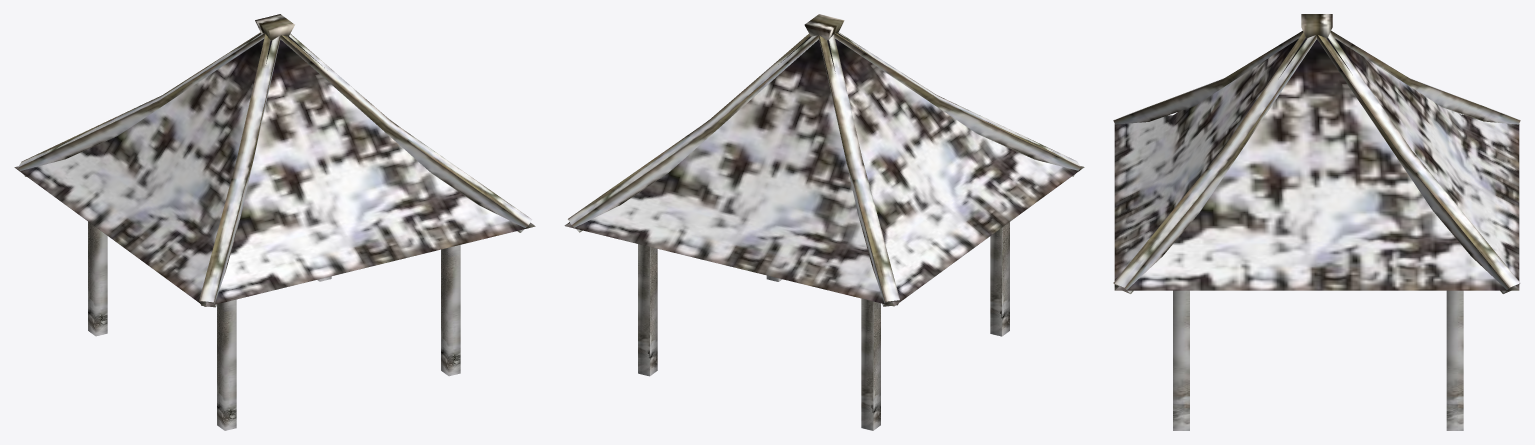
Rendered from Loft18.obj.
3 renders of one model, left to right at view 1: azimuth 30°, elevation 25°; view 2: azimuth 150°, elevation 25°; view 3: azimuth 270°, elevation 25°, orthographic. The views are drawn at different scales.
Visible parts, largest first — view 1: Loft18; view 2: Loft18; view 3: Loft18.
Part boxes in pixels (left/top/right/bottom): Loft18: left=14, top=14, right=535, bottom=430; Loft18: left=564, top=14, right=1084, bottom=430; Loft18: left=1113, top=14, right=1520, bottom=430.
Bounding box in the file's own units: 101 × 95.33 × 101.
